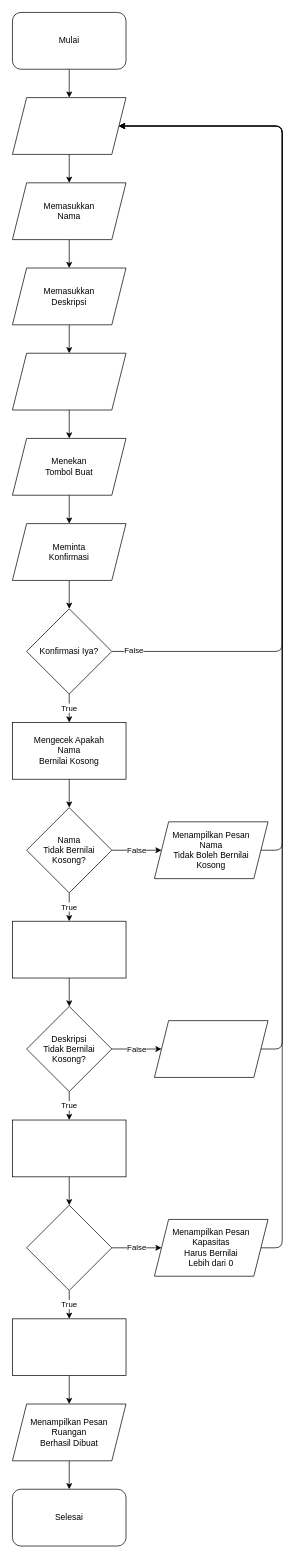
This 300x1558 diagram has some shape labels left out. The shapes that lost their labels are listed below. From the top down, each one's centre as x and y in pixels, then its label:
At pixel 69 125: "Menampilkan Halaman Manajemen Ruangan".
At pixel 69 381: "Memasukkan Kapasitas".
At pixel 69 949: "Mengecek Apakah Deskripsi Bernilai Kosong".
At pixel 211 1048: "Menampilkan Pesan Deskripsi Tidak Boleh Bernilai Kosong".
At pixel 69 1148: "Mengecek Apakah Kapasitas Bernilai Lebih dari 0".
At pixel 69 1247: "Kapasitas Bernilai Lebih dari 0?".
At pixel 69 1347: "Menyimpan Pembuatan Ruangan di Database".
